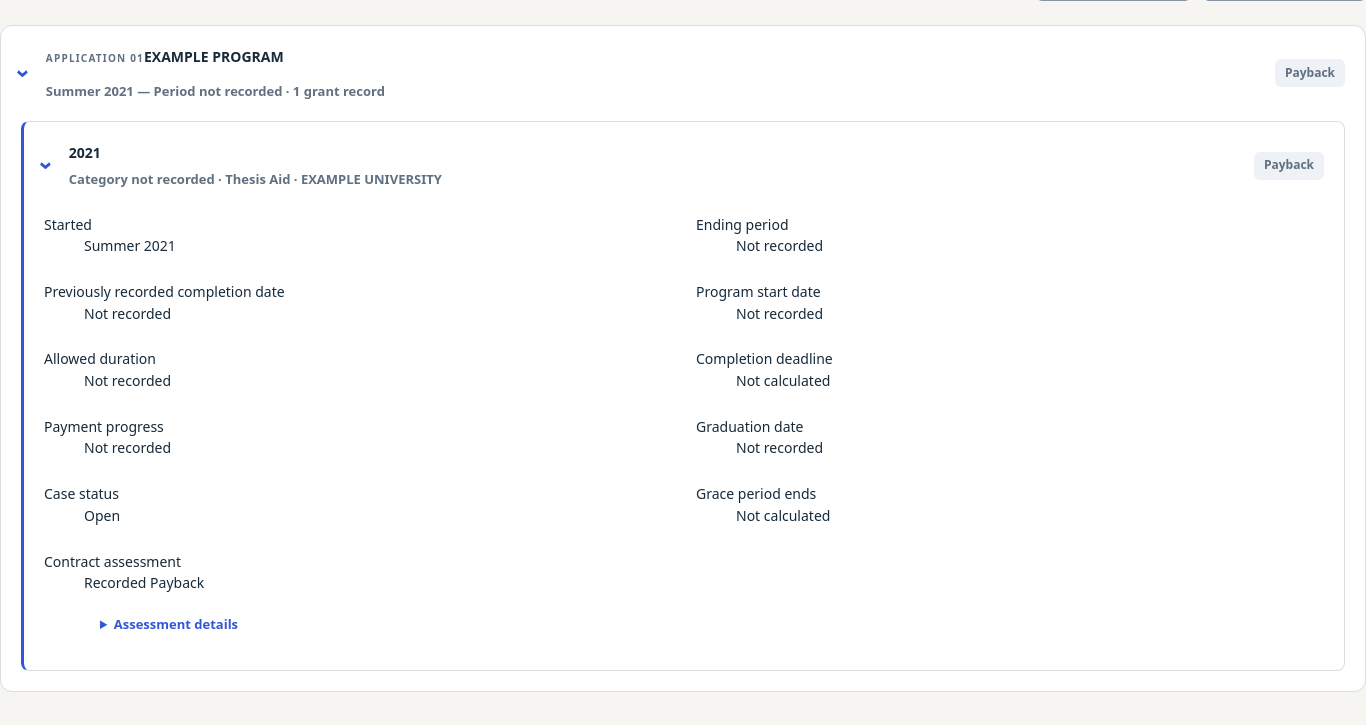
Scenario: profile shows factual assessment details without exposing internal rule codes
Click the heading "Assessment details": (176, 624) [114,615,238,633]
(page scrolled)
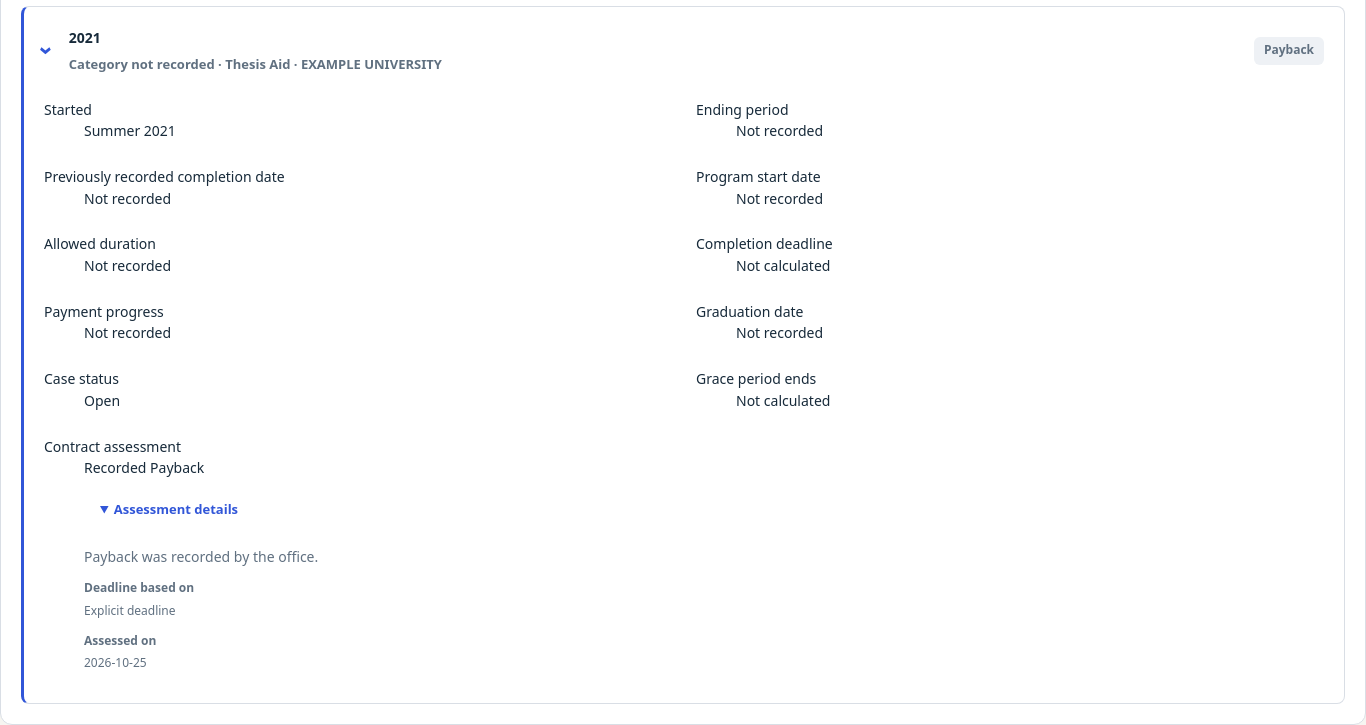
Expected: the text "Payback was recorded by the office." is shown, [84,547,318,566]
Expected: the text "2026-10-25" is shown, [84,654,147,671]
Expected: the text "Explicit deadline" is shown, [84,602,176,619]
